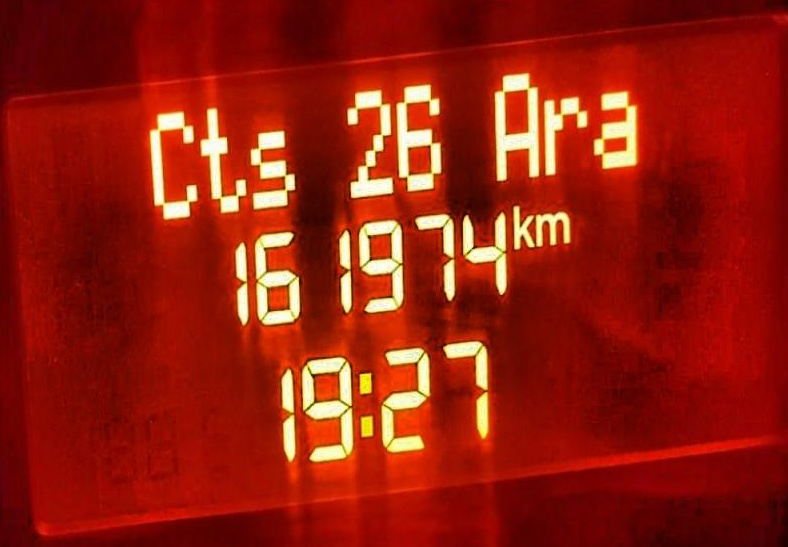1: (271, 349, 300, 466), (227, 230, 252, 329), (330, 224, 351, 317)
2: (340, 81, 398, 204), (379, 337, 428, 456)
4: (461, 204, 509, 302)
6: (398, 73, 447, 190), (252, 226, 306, 332)
7: (438, 328, 499, 449), (411, 203, 461, 310)
9: (298, 344, 351, 470), (356, 213, 408, 315)
X: (490, 63, 543, 186), (148, 103, 199, 230), (202, 96, 250, 220), (538, 86, 588, 181), (249, 119, 298, 213), (595, 76, 638, 173), (353, 356, 378, 452), (535, 204, 568, 251), (508, 196, 535, 253)
